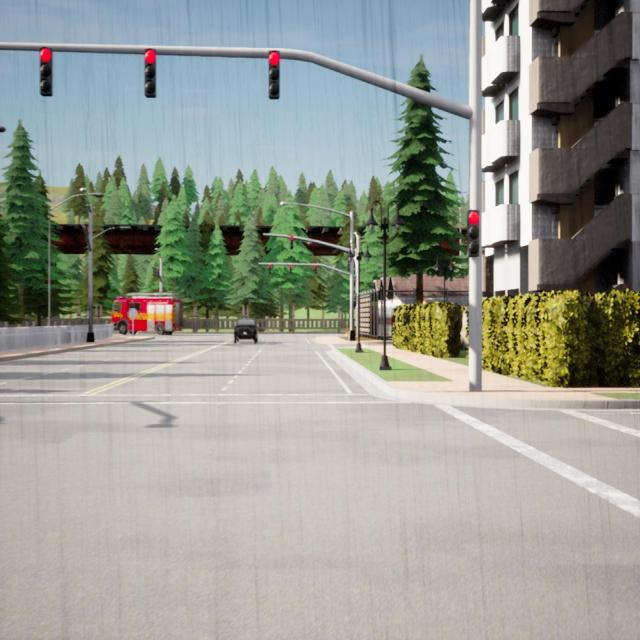Traffic_Signs: (130, 308, 136, 318)
Vehicle: (112, 294, 182, 334), (234, 319, 257, 343)
traffic_light: (144, 50, 156, 98), (40, 48, 51, 95), (268, 49, 278, 99), (469, 211, 479, 257), (85, 226, 89, 242), (290, 235, 293, 248), (314, 265, 317, 274), (269, 264, 271, 274), (290, 264, 292, 274), (153, 268, 155, 276), (155, 269, 157, 277), (158, 270, 159, 277)
